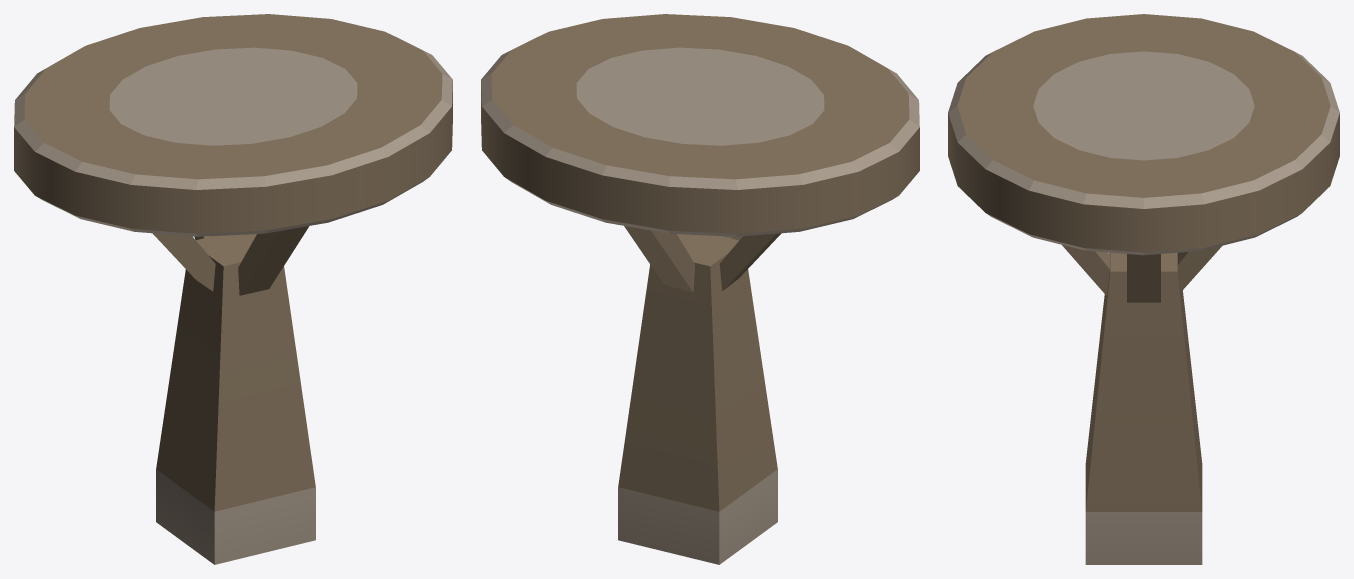
The model's file is small round table.fbx.
3 renders of one model, left to right at view 1: azimuth 30°, elevation 25°; view 2: azimuth 150°, elevation 25°; view 3: azimuth 270°, elevation 25°, orthographic.
Parts seen in each view (by area): view 1: pCube255; view 2: pCube255; view 3: pCube255.
Part boxes in pixels (box(x1,y1,x2,y2)): pCube255: box(14, 14, 452, 564); pCube255: box(481, 14, 919, 564); pCube255: box(948, 14, 1339, 564).
Size of the model in its own units: 1.9 by 1.98 by 1.63.
